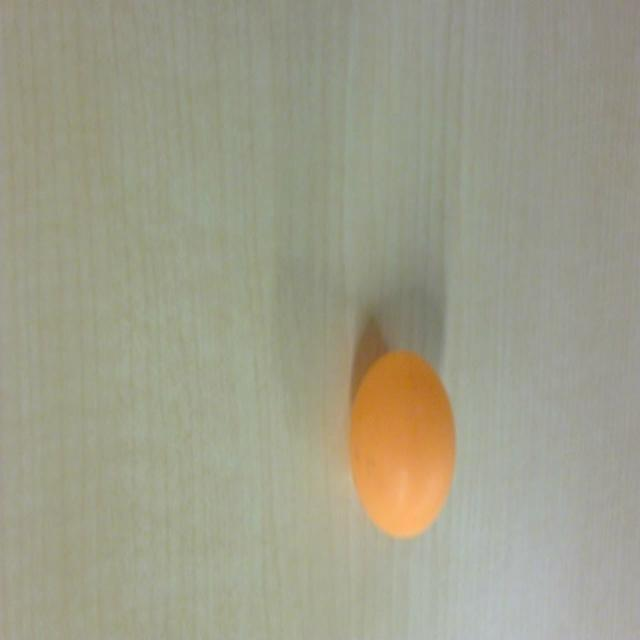ball: (348, 352, 458, 541)
